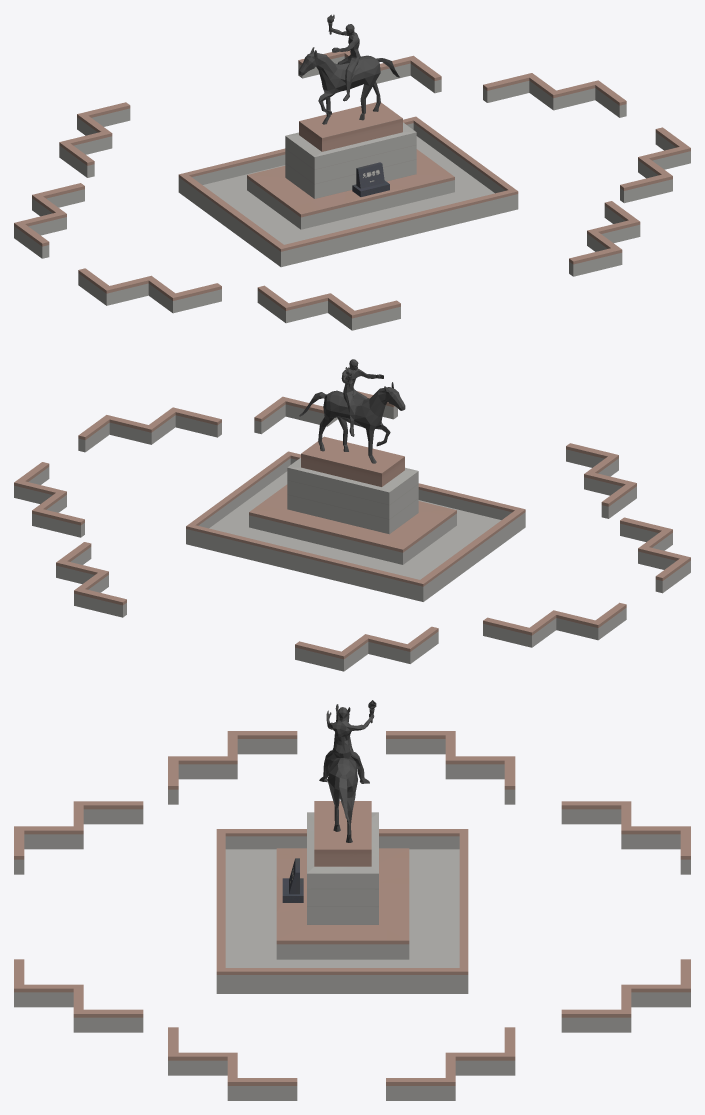
3 views of the same model, one above another, from view 1: azimuth 30°, elevation 25°; view 2: azimuth 150°, elevation 25°; view 3: azimuth 270°, elevation 25° (orthographic). The views are drawn at different scales.
Visible parts, largest first — view 1: stonestatue_01; view 2: stonestatue_01; view 3: stonestatue_01.
Boxes of the visible parts, x1,y1,x2,y2 form: stonestatue_01: (14,14,690,330); stonestatue_01: (14,359,690,671); stonestatue_01: (14,700,690,1100).
Bounding box in the file's own units: 2 × 0.5859 × 1.63.
Materials: 1 (1 with a texture image).
